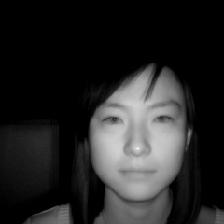normal: (62, 48, 209, 209)
